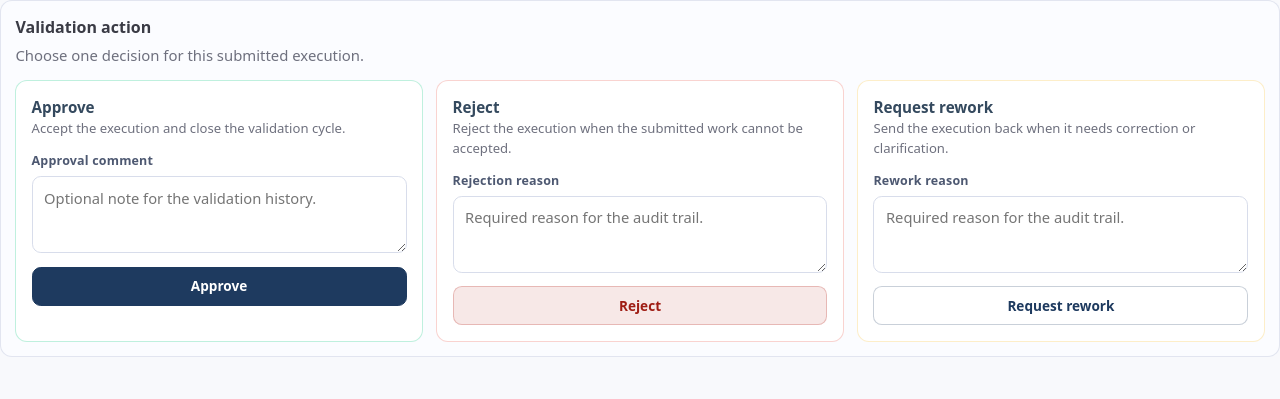
Test case: PreventiveValidationActionPanel › should require rejection reason
Click the button "Reject": (640,306) 452,286 -> 828,325
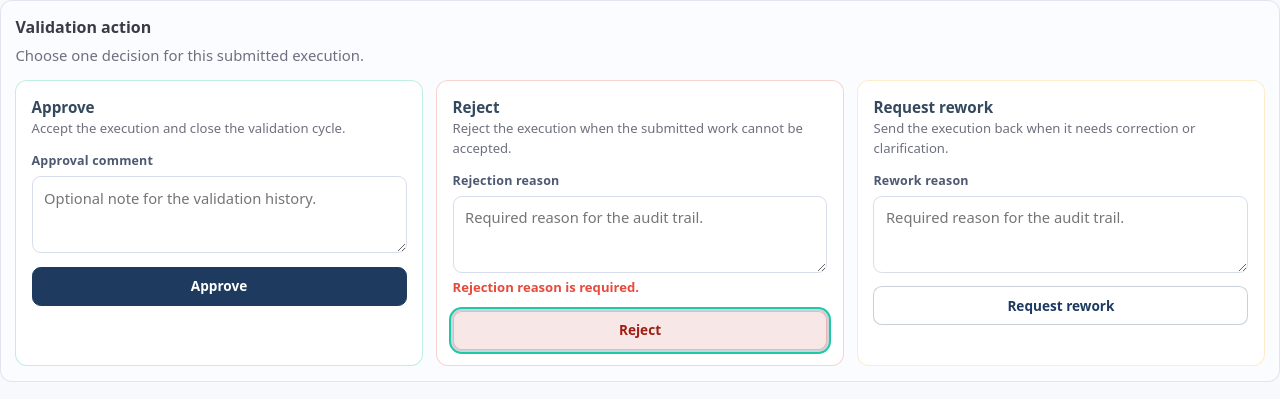
Check: the text "Rejection reason is required." is shown, box 452,278 -> 639,296
